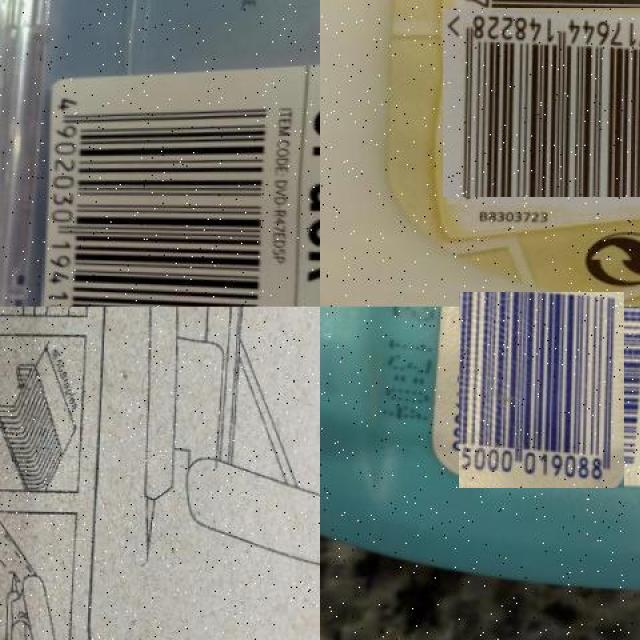Barcode: (42, 75, 278, 306), (447, 3, 640, 201), (452, 299, 632, 481)
